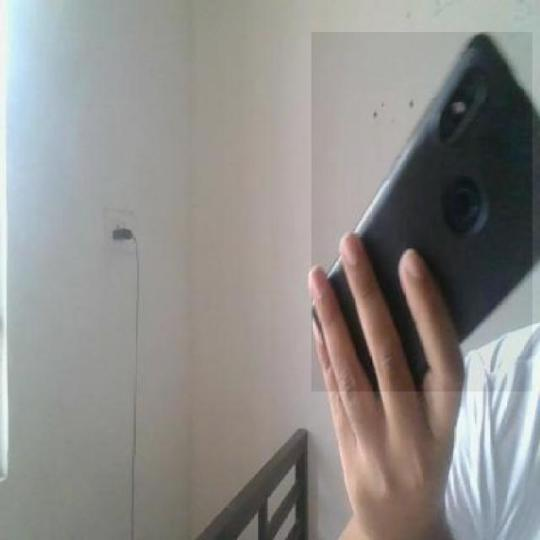phone: (307, 37, 540, 389)
